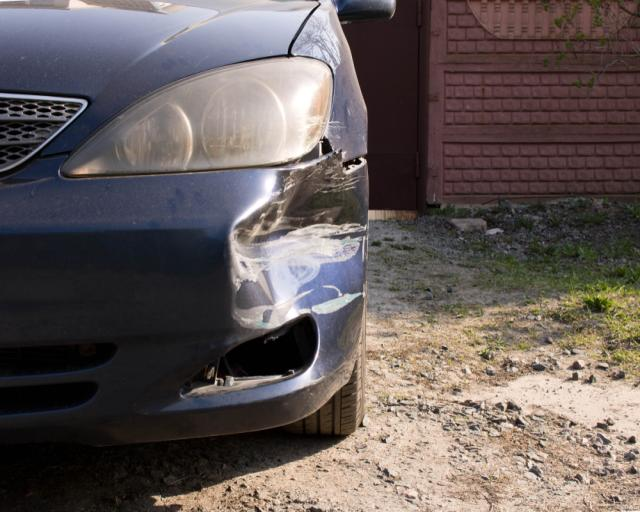dent: (233, 165, 367, 318)
scratch: (225, 232, 366, 330)
